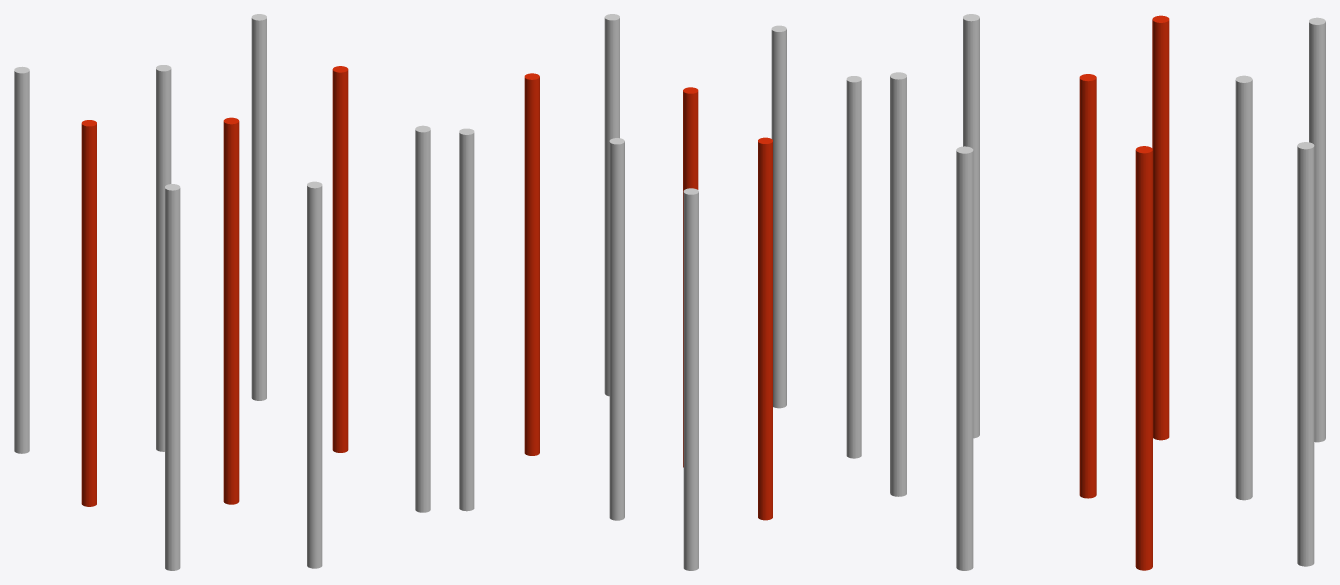
The model's file is slalom_2025.dae.
3 views of the same model, side by side, from view 1: azimuth 30°, elevation 25°; view 2: azimuth 150°, elevation 25°; view 3: azimuth 270°, elevation 25° (orthographic). The views are drawn at different scales.
Visible parts, largest first — view 1: Cylinder.002, Cylinder.005, Cylinder.003, Cylinder, Cylinder.006, Cylinder.008, Cylinder.004, Cylinder.007, Cylinder.001; view 2: Cylinder.005, Cylinder.004, Cylinder.008, Cylinder.006, Cylinder.001, Cylinder.007, Cylinder, Cylinder.003, Cylinder.002; view 3: Cylinder.002, Cylinder.001, Cylinder.003, Cylinder.004, Cylinder.005, Cylinder.007, Cylinder, Cylinder.006, Cylinder.008.
Boxes of the visible parts, x1,y1,x2,y2 form: Cylinder.002: (223, 117, 239, 504); Cylinder.005: (332, 66, 348, 452); Cylinder.003: (415, 125, 430, 512); Cylinder: (307, 181, 322, 568); Cylinder.006: (14, 66, 29, 453); Cylinder.008: (165, 184, 180, 570); Cylinder.004: (251, 14, 266, 400); Cylinder.007: (81, 120, 96, 506); Cylinder.001: (156, 65, 171, 451); Cylinder.005: (524, 73, 539, 455); Cylinder.004: (459, 128, 474, 511); Cylinder.008: (846, 76, 861, 458); Cylinder.006: (683, 188, 698, 570); Cylinder.001: (609, 138, 624, 520); Cylinder.007: (758, 137, 772, 520); Cylinder: (771, 25, 786, 408); Cylinder.003: (604, 14, 619, 396); Cylinder.002: (683, 87, 698, 467); Cylinder.002: (1079, 74, 1096, 498); Cylinder.001: (1235, 75, 1252, 500); Cylinder.003: (956, 146, 973, 570); Cylinder.004: (1297, 142, 1314, 566); Cylinder.005: (1135, 146, 1152, 570); Cylinder.007: (1152, 15, 1169, 440); Cylinder: (890, 72, 906, 496); Cylinder.006: (1309, 17, 1325, 442); Cylinder.008: (963, 14, 979, 438).
Size of the model in its own units: 0.6415 by 0.8458 by 0.8939.
